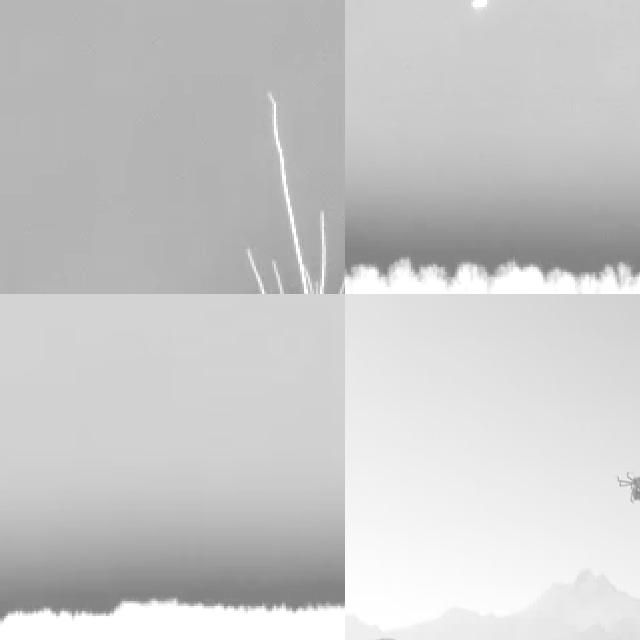0: (50, 287, 78, 294)
1: (461, 0, 497, 22)
drone: (614, 465, 640, 505)
